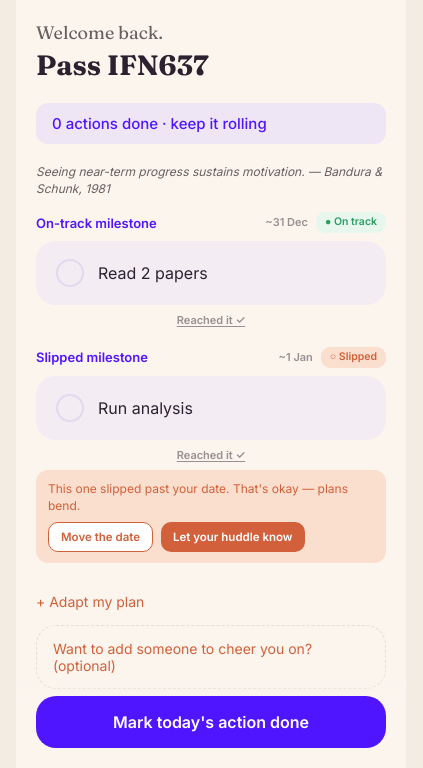
Test case: "Reached it" collapses a milestone to the reached line
Step 1. Click the button "Reached it ✓" below "On-track milestone" → click(211, 320), box x1=36 y1=313 x2=386 y2=327
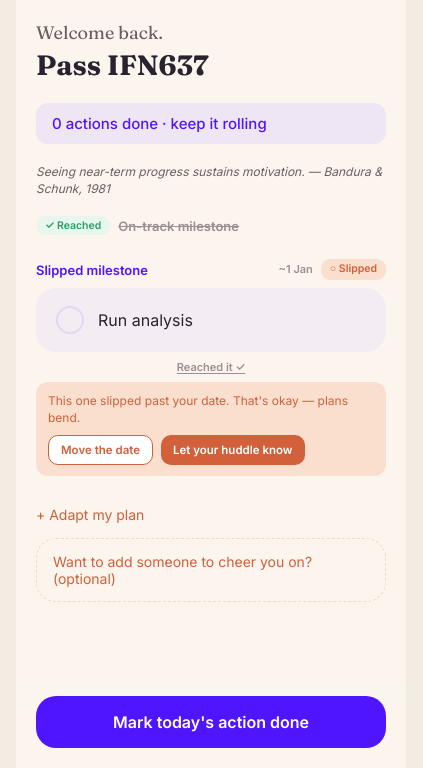
Expected: the text "✓ Reached" is shown, x1=36 y1=216 x2=110 y2=235
Expected: the button "Read 2 papers" is gone
